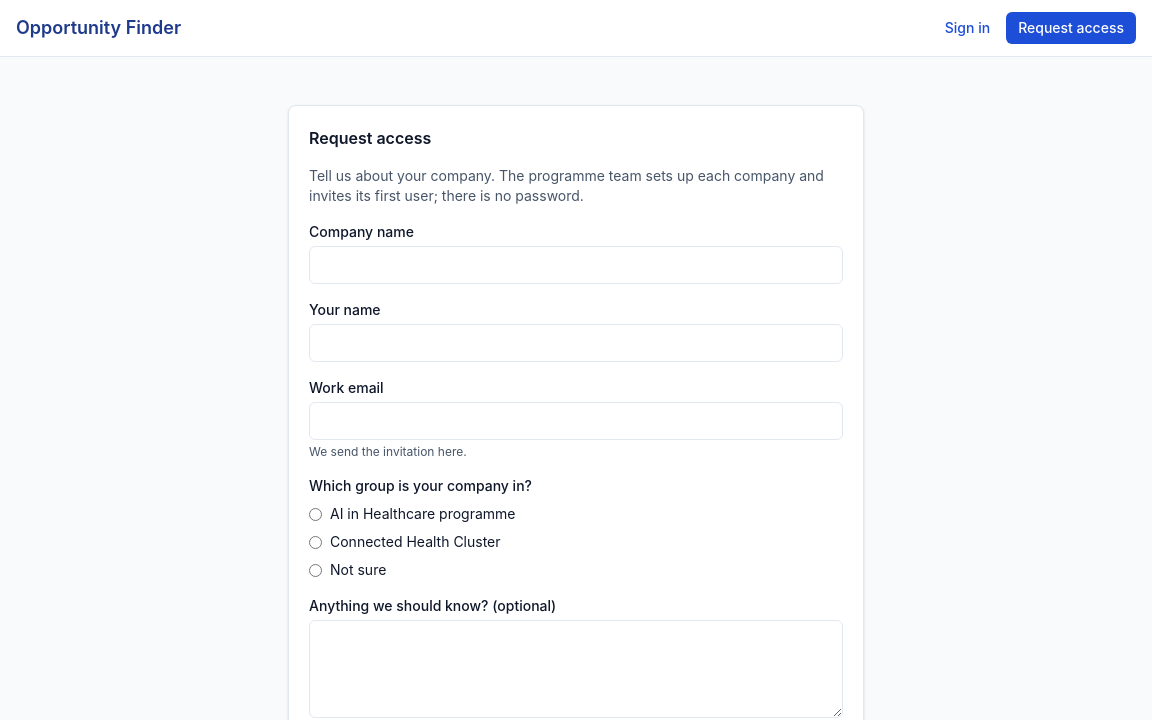
Test case: BEH-019 a new company sends an access request without signing in
The width and height of the screenshot is (1152, 720).
Type "Ward Robotics Ltd" into the field labelled "Company name". click: (576, 265)
box: [309,246,843,284]
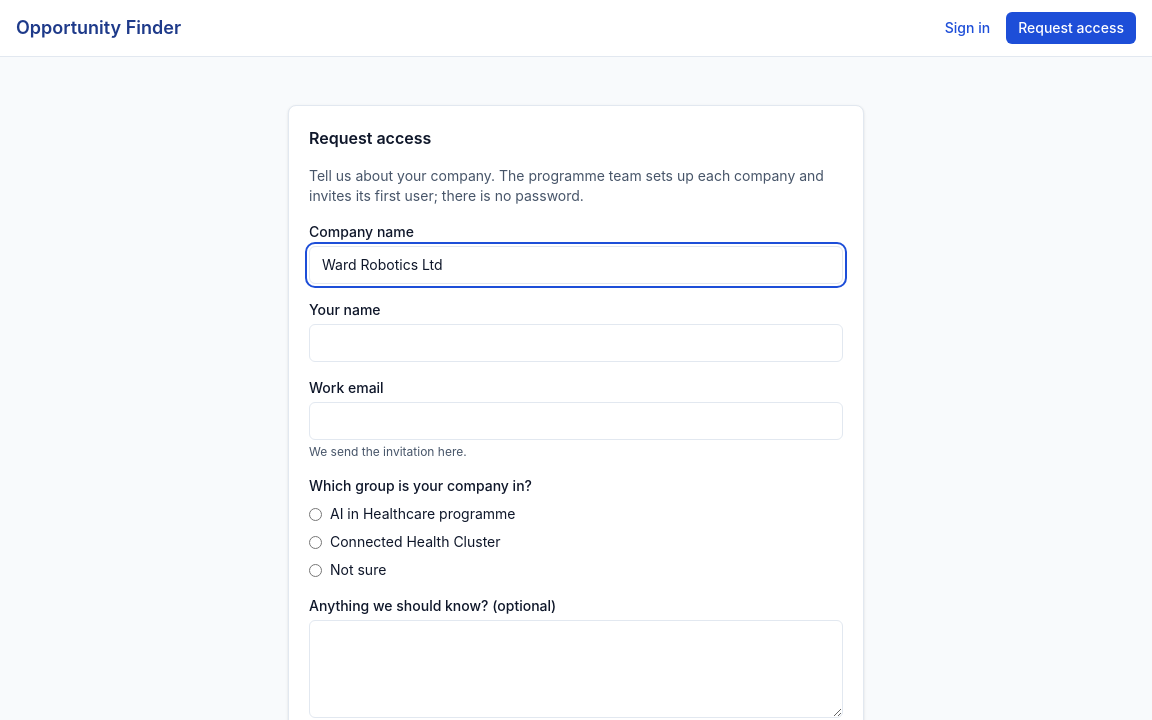
Type "Sam Rivera" into the field labelled "Your name". click: (576, 343)
box: [309,324,843,362]
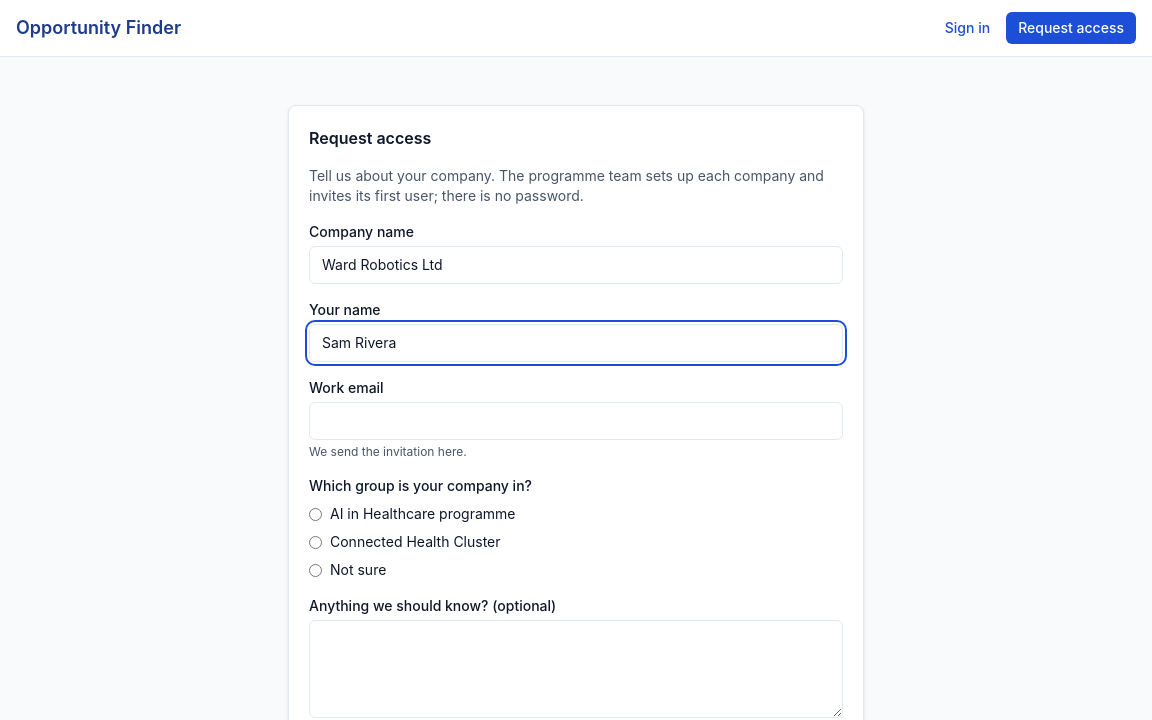
Type "sam@wardrobotics.example" into the field labelled "Work email". click: (576, 421)
box: [309,402,843,440]
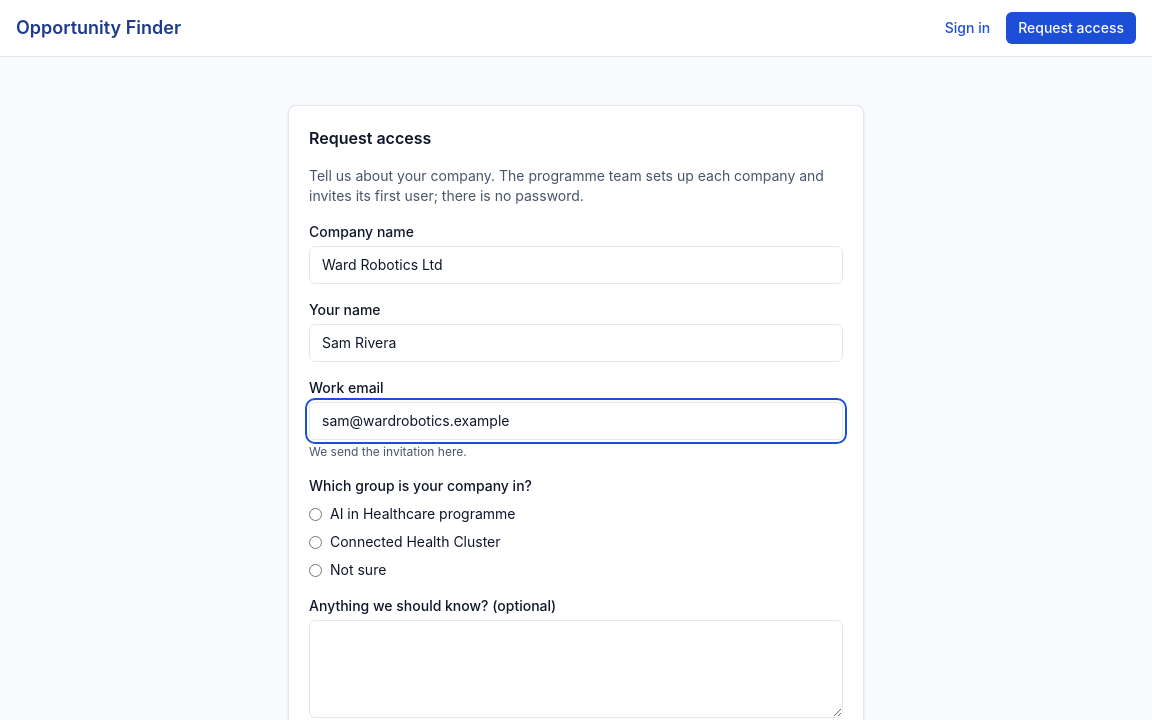
Click the radio button labelled "Connected Health Cluster". click: (316, 542)
box: [309,536,322,548]
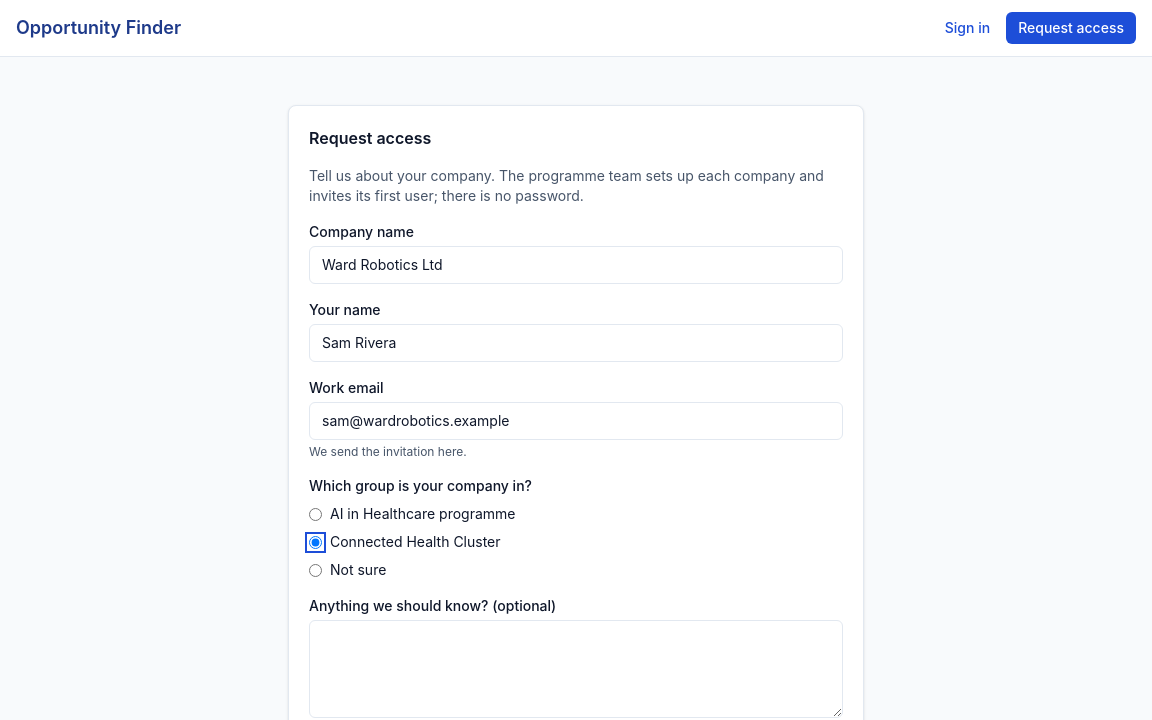
Type "Discharge planning software." into the text box labelled "Anything we should know? (optional)". click: (576, 669)
box: [309,620,843,718]
(page scrolled)
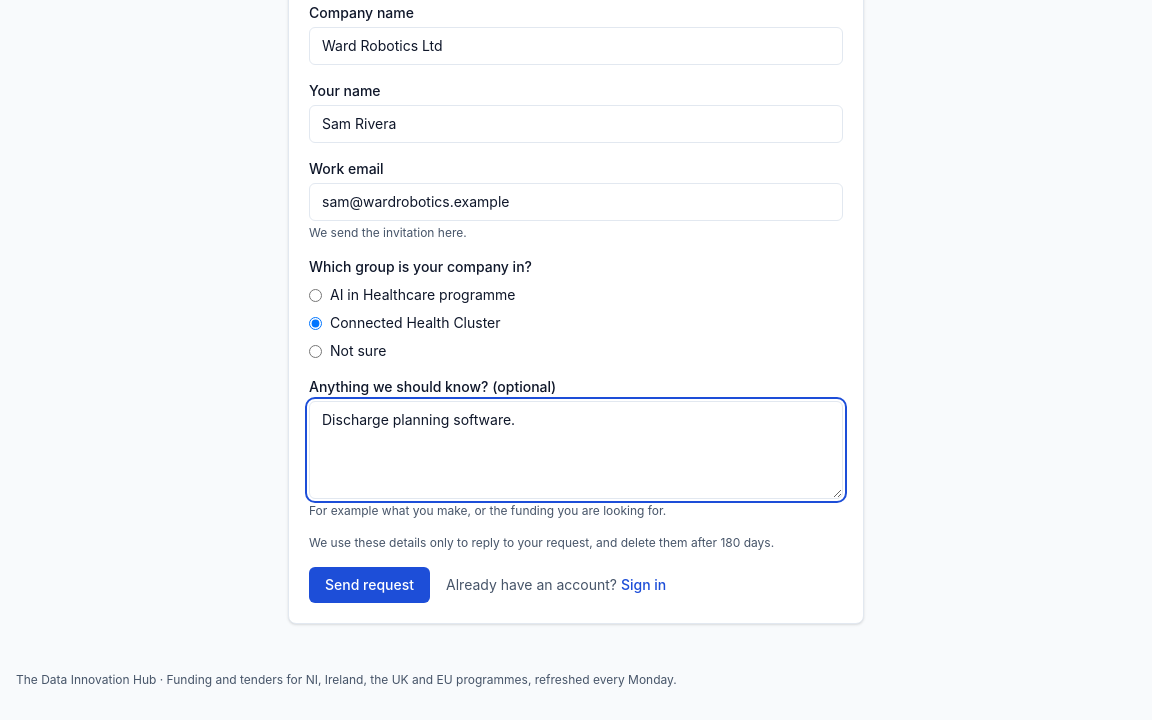
Click the button "Send request". click: (370, 585)
box: [309,567,430,603]
(page scrolled)
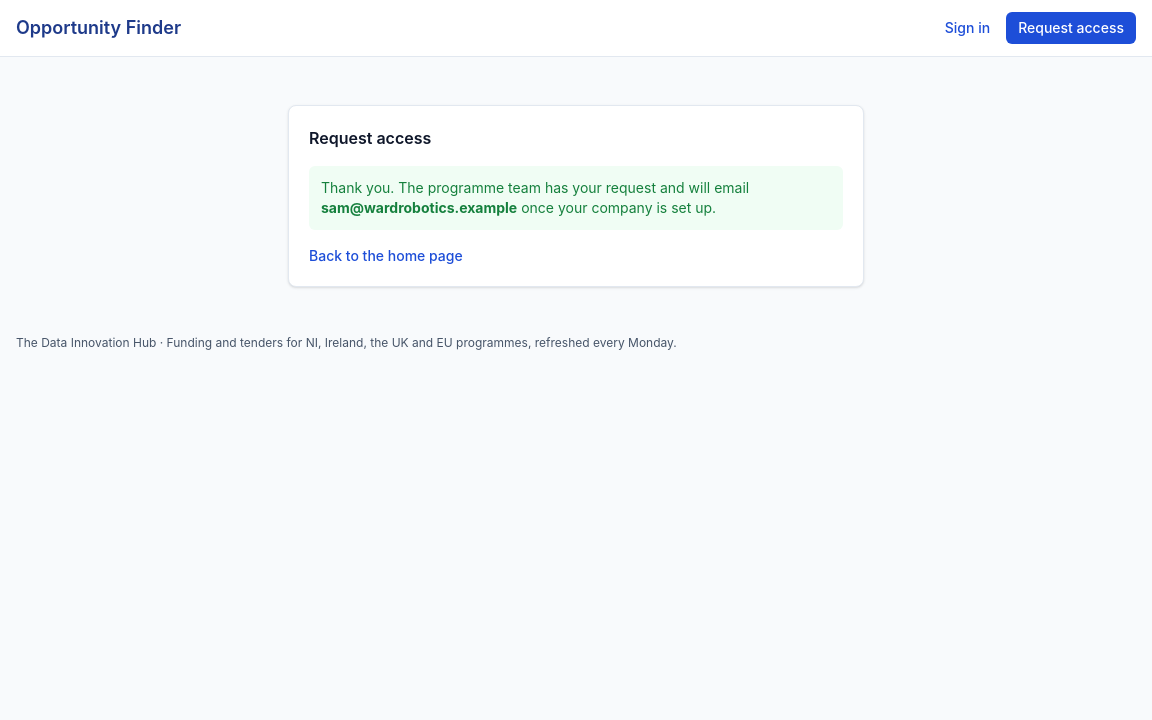
Check: the text "The programme team has your request" shows "sam@wardrobotics.example", box [321,199,517,216]
